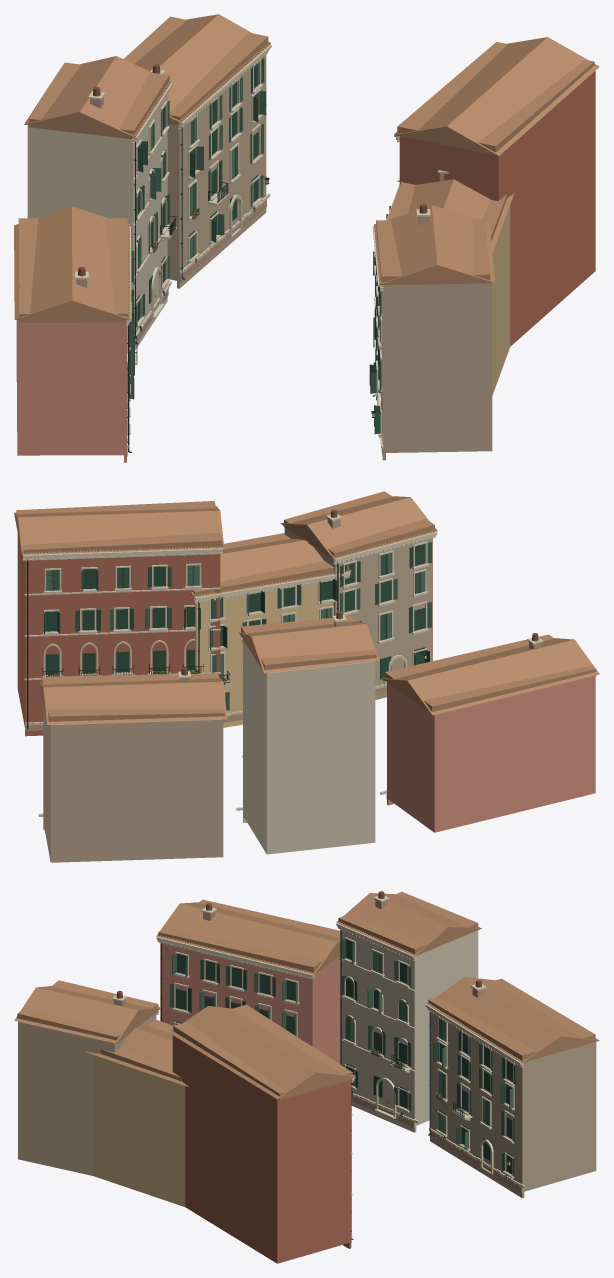
The model's file is canal-05.glb.
The picture shows the model from 3 angles, top to bottom: view 1: azimuth 30°, elevation 25°; view 2: azimuth 150°, elevation 25°; view 3: azimuth 270°, elevation 25°; orthographic projection. The views are drawn at different scales.
Visible parts, largest first — view 1: Main elevations / kit:roof, Main elevations / kit:walls:4, Main elevations / kit:walls:5, Distant elevations / kit:roof, Main elevations / kit:walls:3, Distant elevations / kit:walls:1, Main elevations / kit:stone, Distant elevations / kit:walls:5, Main elevations / kit:walls:1, Main elevations / kit:green, Main elevations / kit:walls:2, Main elevations / kit:greenDark (+6 smaller); view 2: Main elevations / kit:roof, Main elevations / kit:walls:5, Main elevations / kit:walls:3, Main elevations / kit:walls:1, Distant elevations / kit:roof, Distant elevations / kit:walls:4, Main elevations / kit:stone, Main elevations / kit:walls:4, Distant elevations / kit:greenDark, Distant elevations / kit:walls:1, Main elevations / kit:walls:2, Distant elevations / kit:walls:5 (+8 smaller); view 3: Main elevations / kit:walls:4, Main elevations / kit:roof, Main elevations / kit:walls:5, Distant elevations / kit:roof, Main elevations / kit:walls:2, Main elevations / kit:walls:3, Main elevations / kit:stone, Distant elevations / kit:walls:1, Distant elevations / kit:greenDark, Main elevations / kit:green, Distant elevations / kit:walls:5, Main elevations / kit:greenDark (+6 smaller).
Boxes of the visible parts, x1=… form: Main elevations / kit:roof: x1=14, y1=14, x2=599, y2=319; Main elevations / kit:walls:4: x1=399, y1=71, x2=595, y2=346; Main elevations / kit:walls:5: x1=167, y1=56, x2=492, y2=460; Distant elevations / kit:roof: x1=18, y1=16, x2=594, y2=322; Main elevations / kit:walls:3: x1=27, y1=94, x2=167, y2=350; Distant elevations / kit:walls:1: x1=20, y1=322, x2=126, y2=455; Main elevations / kit:stone: x1=75, y1=45, x2=448, y2=448; Distant elevations / kit:walls:5: x1=176, y1=54, x2=488, y2=452; Main elevations / kit:walls:1: x1=16, y1=320, x2=126, y2=462; Main elevations / kit:green: x1=127, y1=77, x2=390, y2=426; Main elevations / kit:walls:2: x1=492, y1=205, x2=510, y2=395; Main elevations / kit:greenDark: x1=129, y1=58, x2=388, y2=434; Main elevations / kit:roof: x1=14, y1=496, x2=599, y2=724; Main elevations / kit:walls:5: x1=43, y1=528, x2=432, y2=862; Main elevations / kit:walls:3: x1=243, y1=640, x2=375, y2=854; Main elevations / kit:walls:1: x1=387, y1=675, x2=595, y2=832; Distant elevations / kit:roof: x1=16, y1=491, x2=596, y2=721; Distant elevations / kit:walls:4: x1=36, y1=554, x2=220, y2=723; Main elevations / kit:stone: x1=23, y1=514, x2=543, y2=816; Main elevations / kit:walls:4: x1=17, y1=533, x2=154, y2=736; Distant elevations / kit:greenDark: x1=46, y1=544, x2=425, y2=679; Distant elevations / kit:walls:1: x1=387, y1=682, x2=432, y2=831; Main elevations / kit:walls:2: x1=195, y1=583, x2=333, y2=727; Distant elevations / kit:walls:5: x1=49, y1=538, x2=432, y2=859; Main elevations / kit:walls:4: x1=172, y1=1035, x2=351, y2=1263; Main elevations / kit:roof: x1=14, y1=893, x2=599, y2=1099; Main elevations / kit:walls:5: x1=18, y1=1012, x2=596, y2=1198; Distant elevations / kit:roof: x1=17, y1=892, x2=595, y2=1100; Main elevations / kit:walls:2: x1=93, y1=1055, x2=185, y2=1206; Main elevations / kit:walls:3: x1=341, y1=930, x2=478, y2=1132; Main elevations / kit:stone: x1=112, y1=896, x2=524, y2=1237; Distant elevations / kit:walls:1: x1=163, y1=943, x2=340, y2=1063; Distant elevations / kit:greenDark: x1=176, y1=939, x2=513, y2=1174; Main elevations / kit:green: x1=169, y1=951, x2=515, y2=1177; Distant elevations / kit:walls:5: x1=434, y1=1027, x2=593, y2=1191; Main elevations / kit:greenDark: x1=175, y1=939, x2=516, y2=1144.
Bounding box in the file's own units: 53.51 × 20.25 × 52.69.
